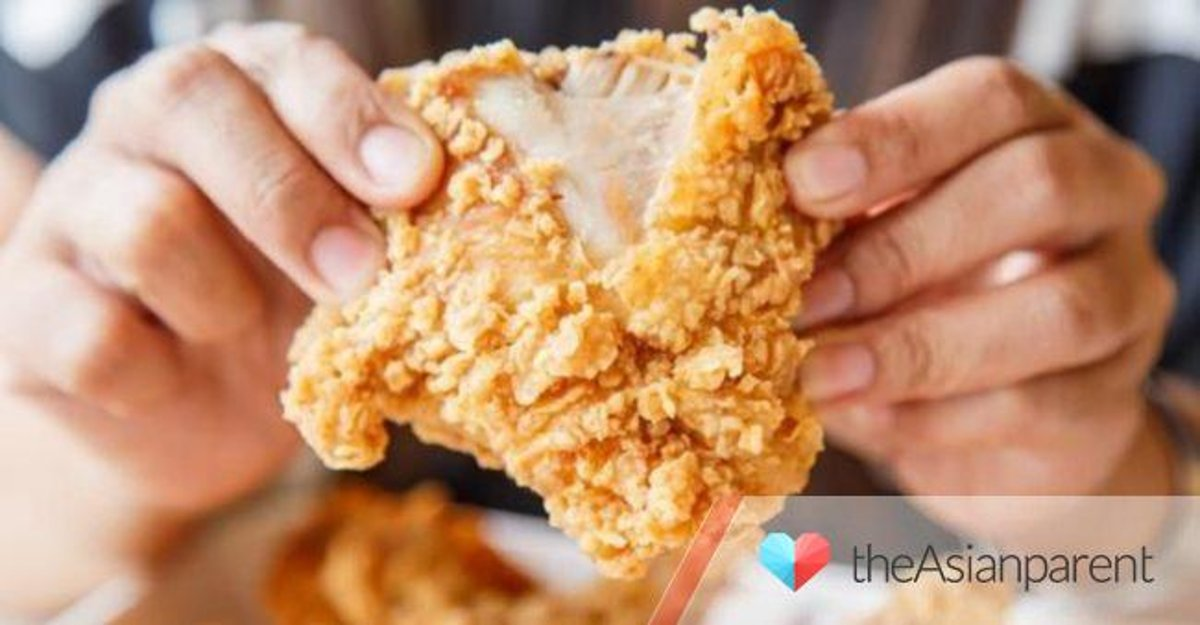Ayam: (240, 21, 858, 530)
